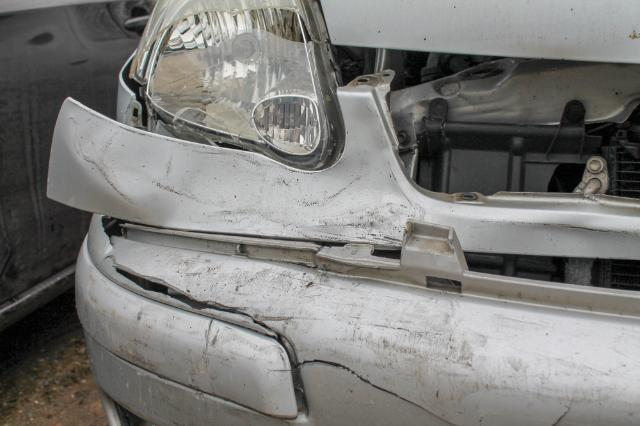crack: (108, 239, 280, 335), (297, 360, 459, 426), (551, 383, 577, 426)
dent: (83, 92, 416, 245)
dislocated part: (75, 214, 640, 426), (44, 75, 413, 246)
lamp broken: (129, 0, 346, 174)
no part: (335, 47, 638, 207)
scratch: (164, 250, 599, 404), (77, 271, 294, 426)
